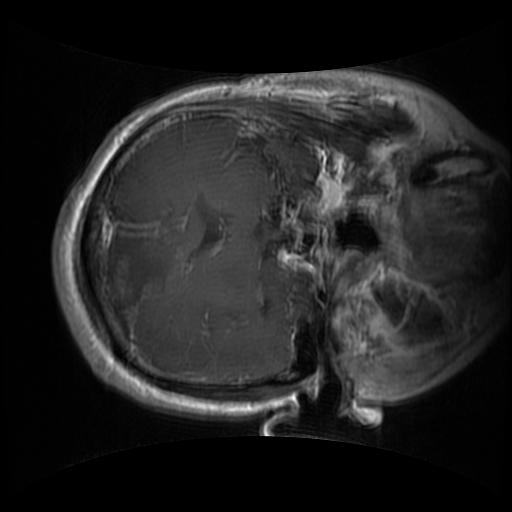glioma: (106, 231, 181, 315)
